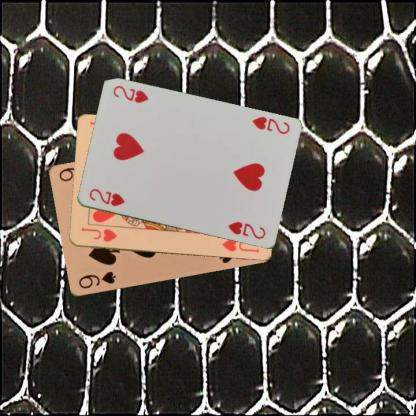2h: (249, 114, 291, 136), (86, 186, 125, 208)
9s: (76, 268, 117, 290)
Jh: (78, 225, 118, 243)
